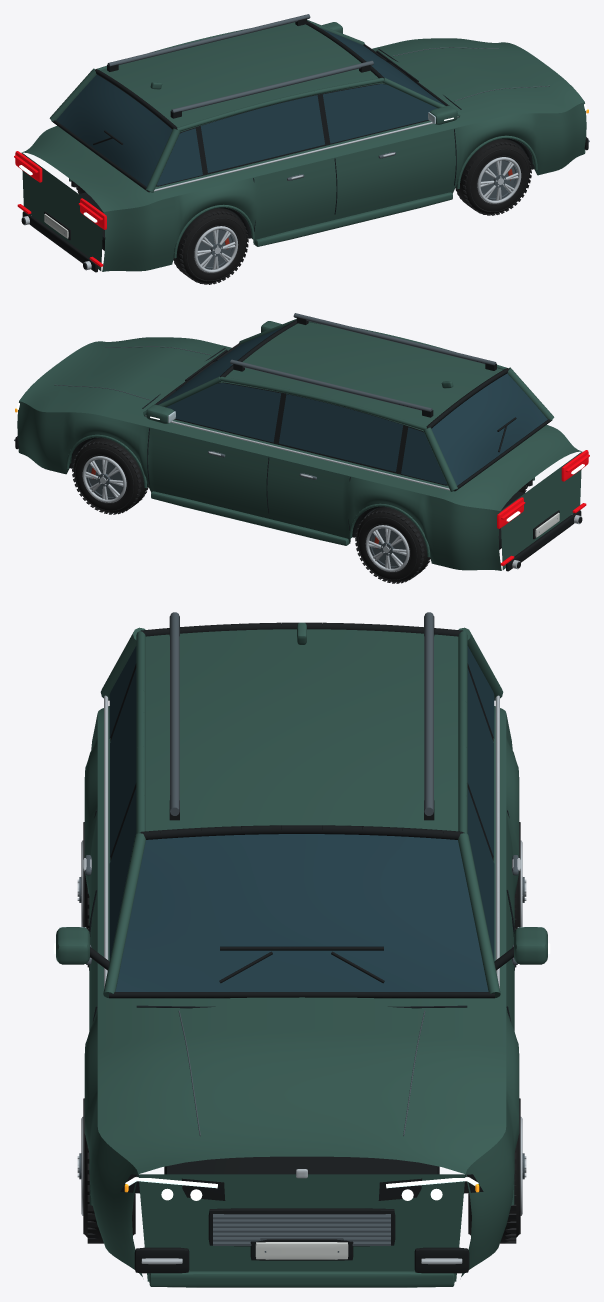
Rendered from estate.glb.
3 renders of one model, top to bottom at view 1: azimuth 30°, elevation 25°; view 2: azimuth 150°, elevation 25°; view 3: azimuth 270°, elevation 25°, orthographic. The views are drawn at different scales.
Visible parts, largest first — view 1: Paint / body colour, Smoked automotive glass, Satin black trim, Tyre rubber, Graphite alloy, Satin aluminium, Tyre tread edges, Rear light lenses; view 2: Paint / body colour, Smoked automotive glass, Satin black trim, Tyre rubber, Graphite alloy, Satin aluminium, Tyre tread edges, Rear light lenses; view 3: Paint / body colour, Smoked automotive glass, Satin black trim, Graphite alloy, Satin aluminium, Tyre tread edges, Tyre rubber, Plain number plates, LED daylight.
Part boxes in pixels (<box>): Paint / body colour: <box>21,19,586,271</box>; Smoked automotive glass: <box>56,28,445,186</box>; Satin black trim: <box>21,18,588,272</box>; Tyre rubber: <box>78,139,530,283</box>; Graphite alloy: <box>46,14,549,269</box>; Satin aluminium: <box>22,116,589,272</box>; Tyre tread edges: <box>76,140,531,284</box>; Rear light lenses: <box>14,151,106,266</box>; Paint / body colour: <box>17,318,582,570</box>; Smoked automotive glass: <box>158,327,547,485</box>; Satin black trim: <box>15,317,582,571</box>; Tyre rubber: <box>73,438,525,582</box>; Graphite alloy: <box>54,313,557,568</box>; Satin aluminium: <box>14,415,581,571</box>; Tyre tread edges: <box>72,439,527,583</box>; Rear light lenses: <box>497,450,589,565</box>; Paint / body colour: <box>56,622,547,1287</box>; Smoked automotive glass: <box>109,646,494,991</box>; Satin black trim: <box>90,616,513,1273</box>; Graphite alloy: <box>79,612,524,1252</box>; Satin aluminium: <box>77,695,526,1264</box>; Tyre tread edges: <box>83,822,520,1243</box>; Tyre rubber: <box>84,872,519,1243</box>; Plain number plates: <box>255,1242,348,1259</box>; LED daylight: <box>53,943,550,1200</box>.
Size of the model in its own units: 5.05 by 1.59 by 2.18.
